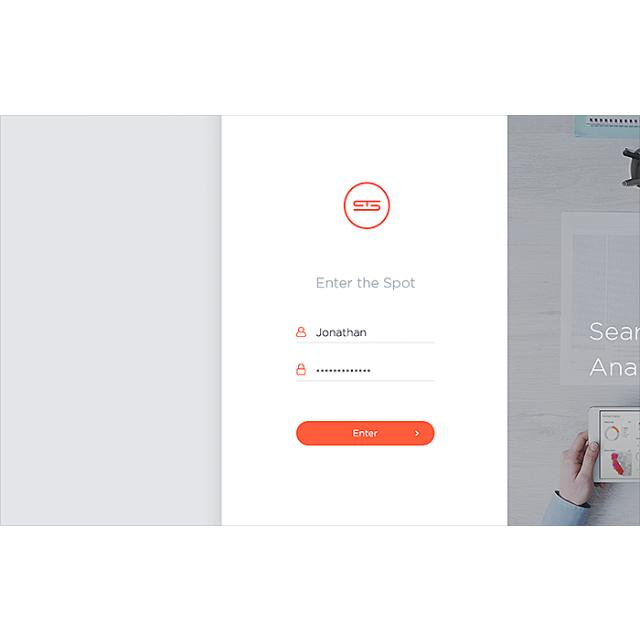QLabel: (311, 272, 421, 292), (348, 428, 380, 438)
VBtn: (296, 419, 434, 446)
VCard: (218, 114, 510, 526)
VIcon: (412, 429, 420, 436)
VImg: (344, 180, 392, 230)
VTextField: (291, 357, 437, 383), (290, 322, 438, 346)
